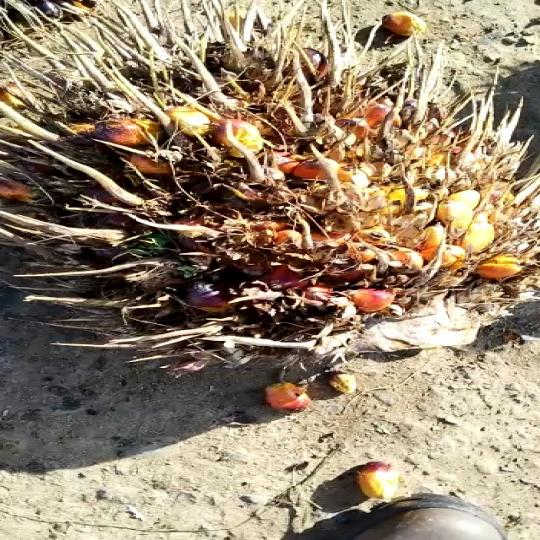terlalu masak: (12, 0, 538, 364)
